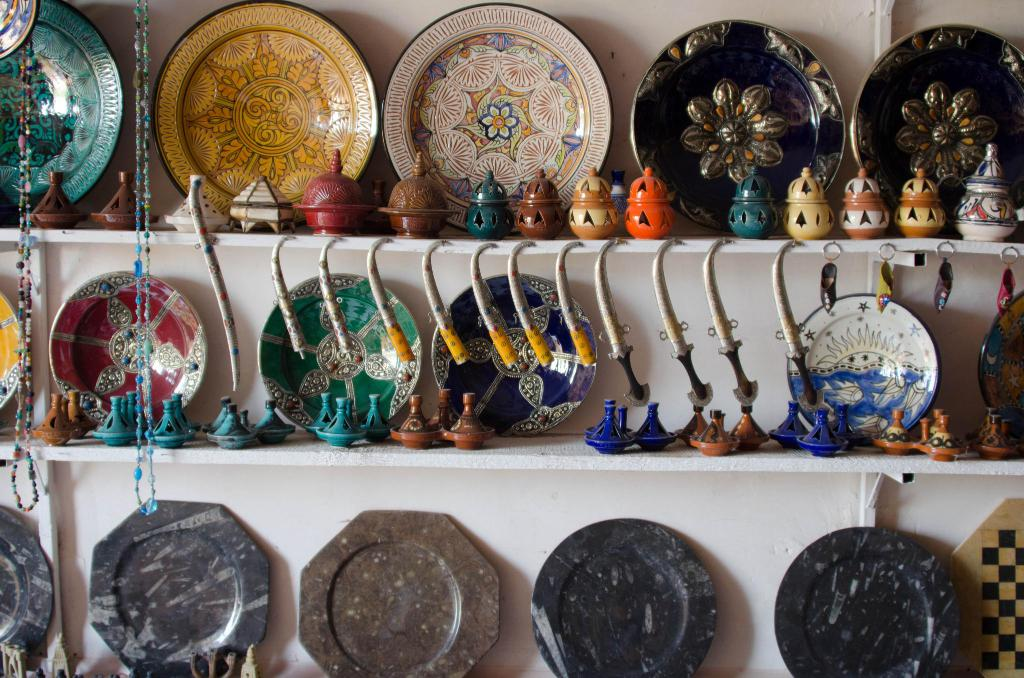plate: (131, 22, 366, 195)
